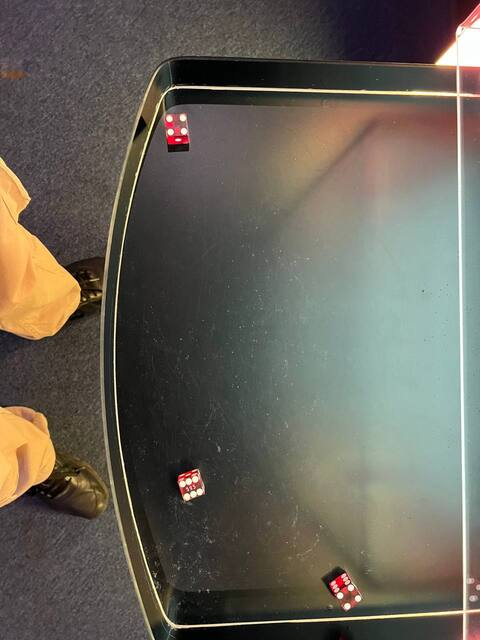four: (333, 582, 366, 611), (161, 111, 192, 139)
six: (176, 474, 209, 504)
